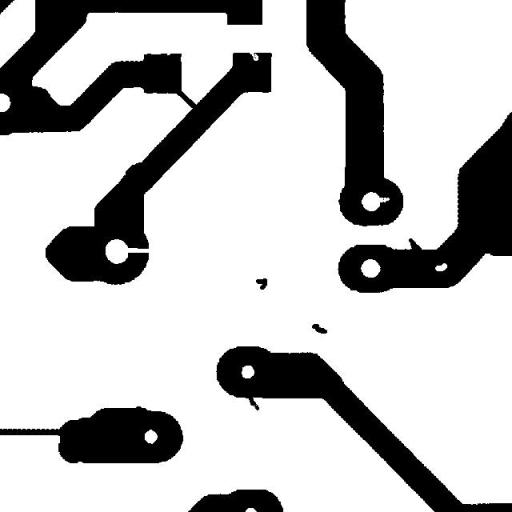copper: (304, 316, 334, 341), (248, 270, 274, 297)
mousebite: (242, 43, 266, 68), (367, 190, 397, 210)
open: (116, 240, 158, 260)
pin-hole: (428, 256, 454, 278)
short: (168, 79, 204, 116)
spur: (236, 386, 266, 418), (401, 230, 429, 260)
